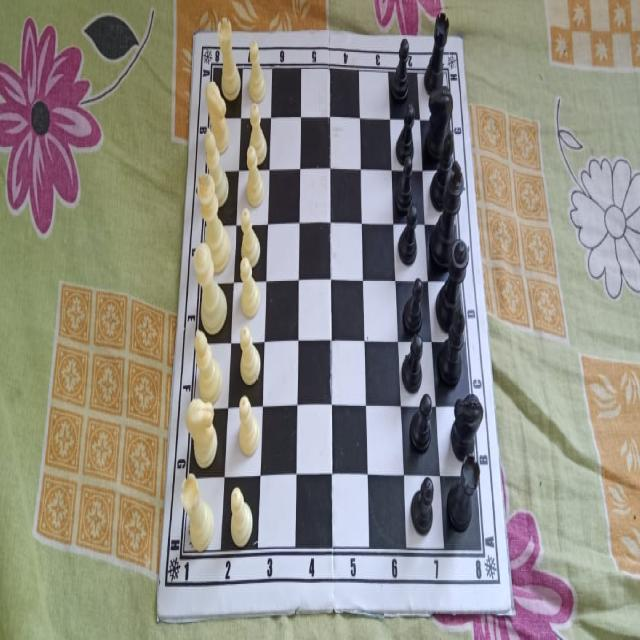corners: (506, 590, 518, 617), (152, 600, 164, 624), (454, 32, 466, 56), (191, 29, 200, 47)
